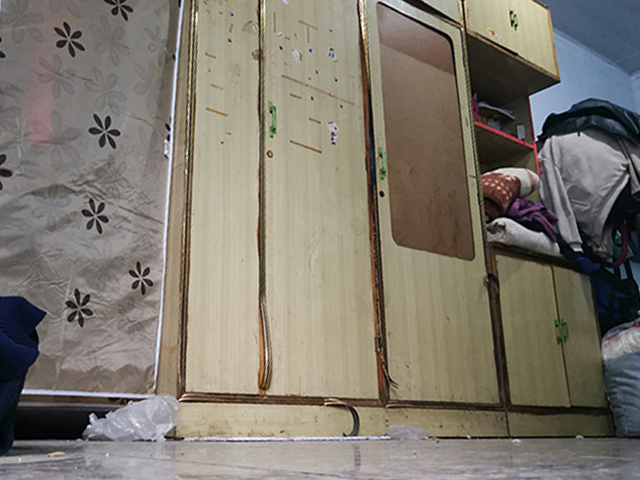cabinet: (158, 1, 615, 443)
